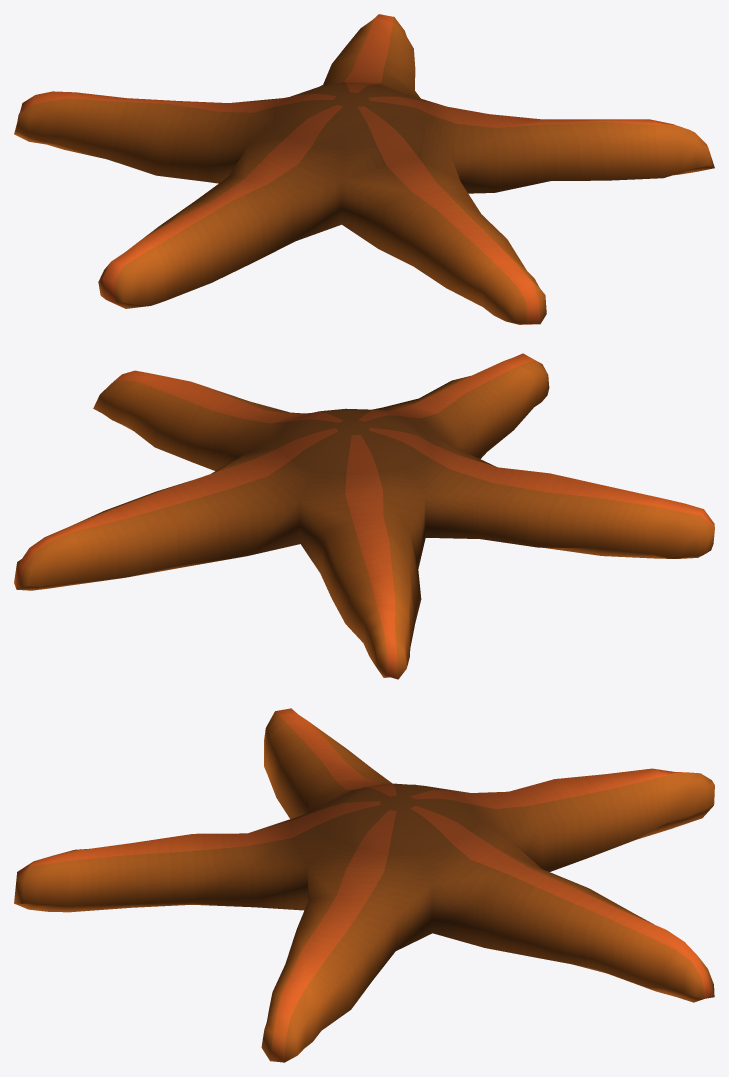
The model's file is starfish-01.fbx.
3 renders of one model, top to bottom at view 1: azimuth 30°, elevation 25°; view 2: azimuth 150°, elevation 25°; view 3: azimuth 270°, elevation 25°, orthographic. The views are drawn at different scales.
Visible parts, largest first — view 1: Starfish; view 2: Starfish; view 3: Starfish.
Part boxes in pixels (x1,y1,x2,y2): Starfish: (14, 14, 714, 324); Starfish: (14, 353, 714, 679); Starfish: (14, 708, 714, 1062).
Bounding box in the file's own units: 375 × 59.13 × 354.
